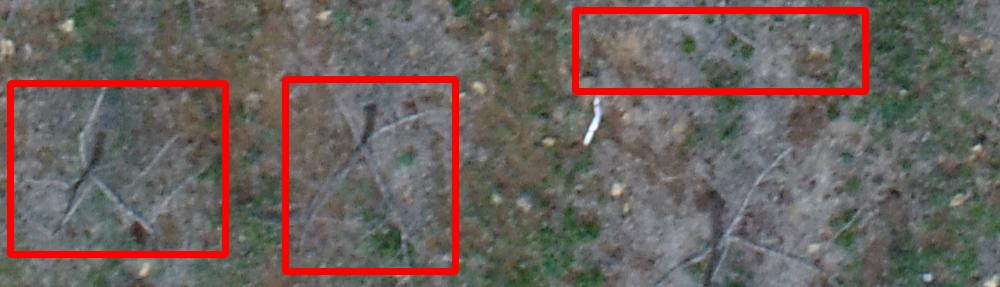apple: (10, 83, 225, 254), (285, 79, 455, 271), (575, 10, 865, 91)
